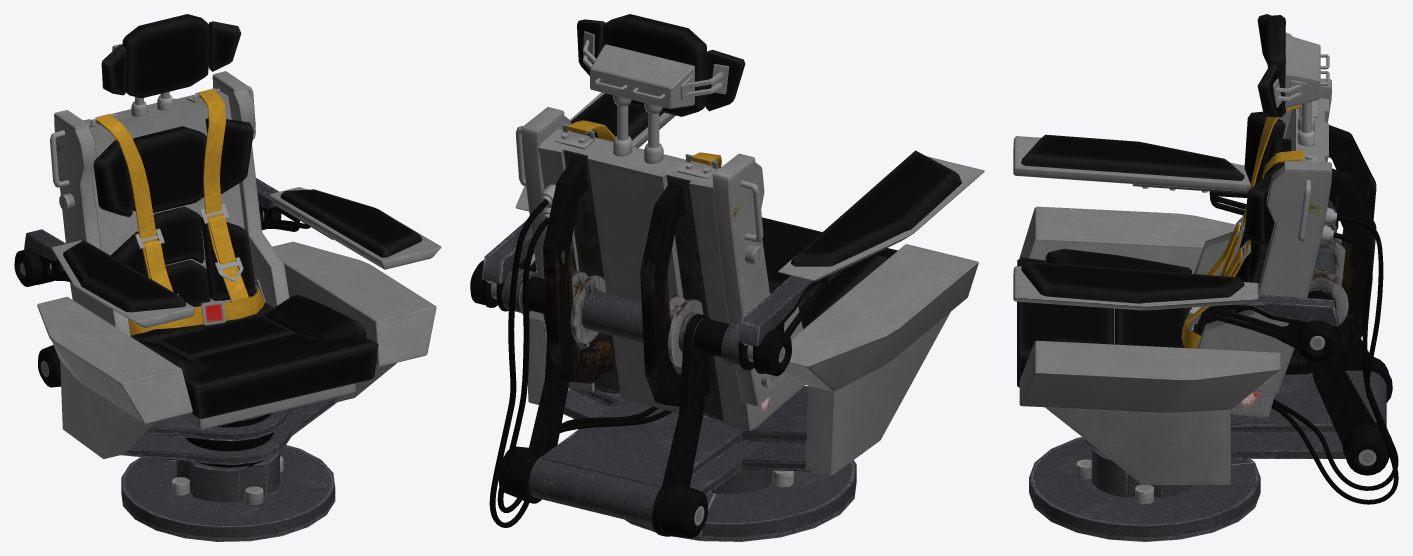
Rendered from PilotChair.fbx.
3 renders of one model, left to right at view 1: azimuth 30°, elevation 25°; view 2: azimuth 150°, elevation 25°; view 3: azimuth 270°, elevation 25°, orthographic. The views are drawn at different scales.
Parts seen in each view (by area): view 1: defaultMaterial; view 2: defaultMaterial; view 3: defaultMaterial.
Boxes of the visible parts, bbox=[...] form: defaultMaterial: bbox=[14, 14, 441, 541]; defaultMaterial: bbox=[470, 14, 984, 541]; defaultMaterial: bbox=[1013, 14, 1398, 541].
Size of the model in its own units: 153 by 200 by 150.
Materials: 1 (1 with a texture image).
